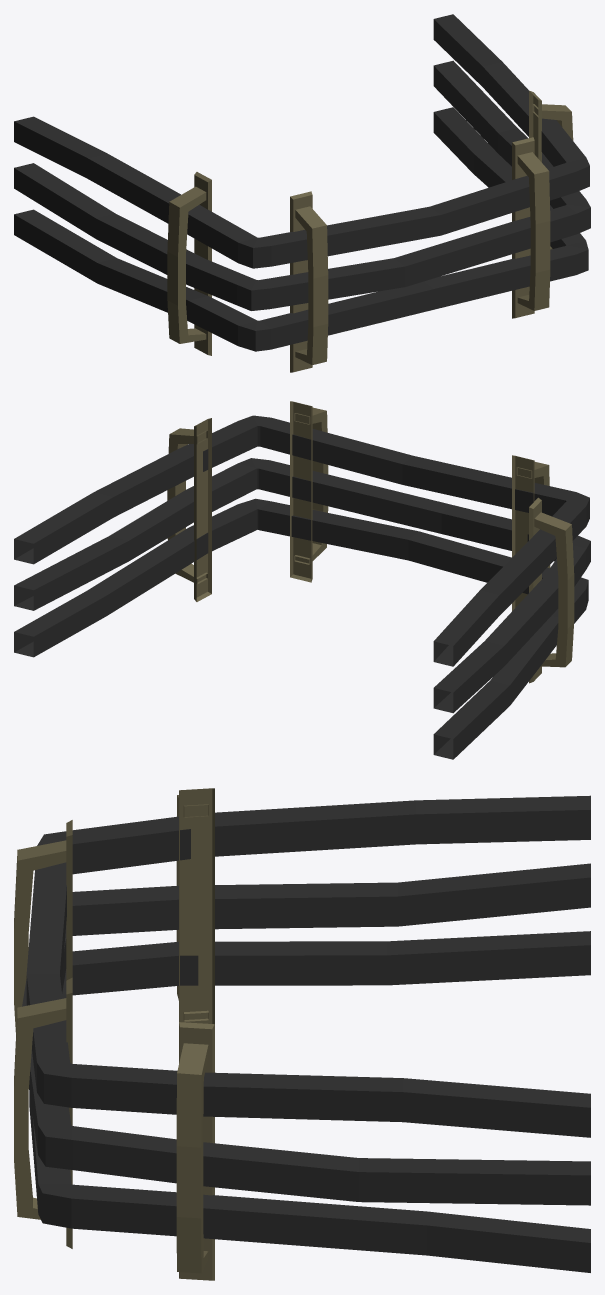
The model's file is SW_ENV_Wires3_StationTunnelWallEnd_01.fbx.
3 renders of one model, top to bottom at view 1: azimuth 30°, elevation 25°; view 2: azimuth 150°, elevation 25°; view 3: azimuth 270°, elevation 25°, orthographic. The views are drawn at different scales.
Visible parts, largest first — view 1: SW_ENV_Wires3_StationTunnelWallEnd_01; view 2: SW_ENV_Wires3_StationTunnelWallEnd_01; view 3: SW_ENV_Wires3_StationTunnelWallEnd_01.
Part boxes in pixels (box(x1,y1,x2,y2)): SW_ENV_Wires3_StationTunnelWallEnd_01: box(14, 14, 590, 372); SW_ENV_Wires3_StationTunnelWallEnd_01: box(14, 401, 590, 759); SW_ENV_Wires3_StationTunnelWallEnd_01: box(14, 788, 590, 1280).
Size of the model in its own units: 89 by 34.12 by 69.56.
